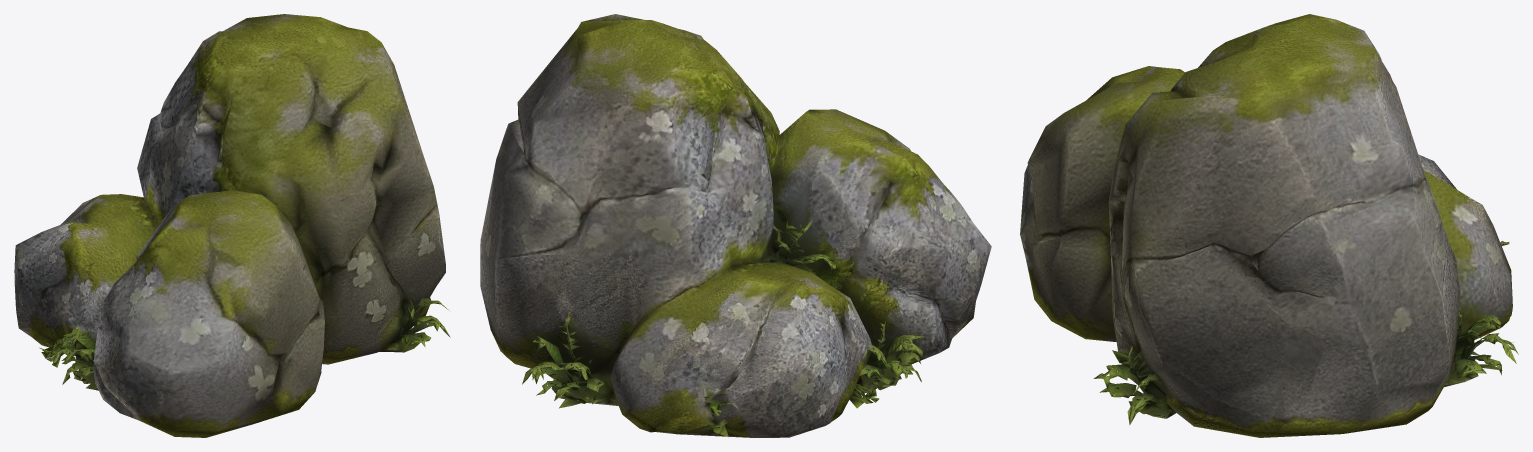
The model's file is env-granite.glb.
The picture shows the model from 3 angles, left to right: view 1: azimuth 30°, elevation 25°; view 2: azimuth 150°, elevation 25°; view 3: azimuth 270°, elevation 25°; orthographic projection. The views are drawn at different scales.
Visible parts, largest first — view 1: tripo_node_c340b1ab-1283-428f-9d4d-a3e03fb36b30; view 2: tripo_node_c340b1ab-1283-428f-9d4d-a3e03fb36b30; view 3: tripo_node_c340b1ab-1283-428f-9d4d-a3e03fb36b30.
Boxes of the visible parts, x1,y1,x2,y2 form: tripo_node_c340b1ab-1283-428f-9d4d-a3e03fb36b30: [14, 14, 450, 437]; tripo_node_c340b1ab-1283-428f-9d4d-a3e03fb36b30: [480, 14, 991, 437]; tripo_node_c340b1ab-1283-428f-9d4d-a3e03fb36b30: [1020, 14, 1518, 437].
Size of the model in its own units: 0.9966 by 0.7461 by 0.9808.
Materials: 1 (1 with a texture image).
